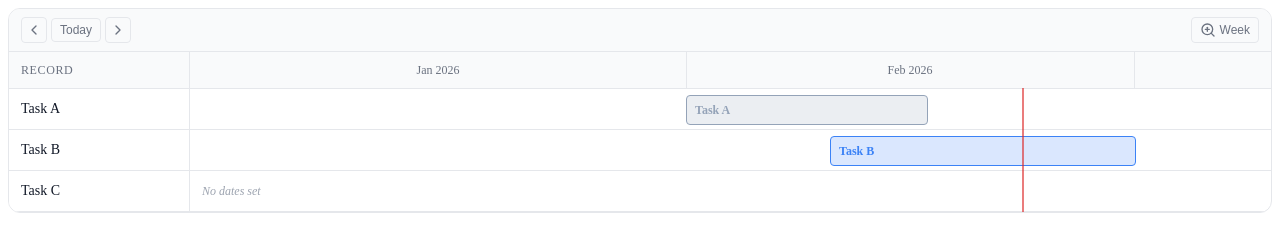
TimelineView › toggles zoom level when zoom button is clicked
// Initially shows "Week" (to switch from Month to Week)
Click the button "Week": click(1225, 30) top-left (1190, 17), bottom-right (1259, 43)
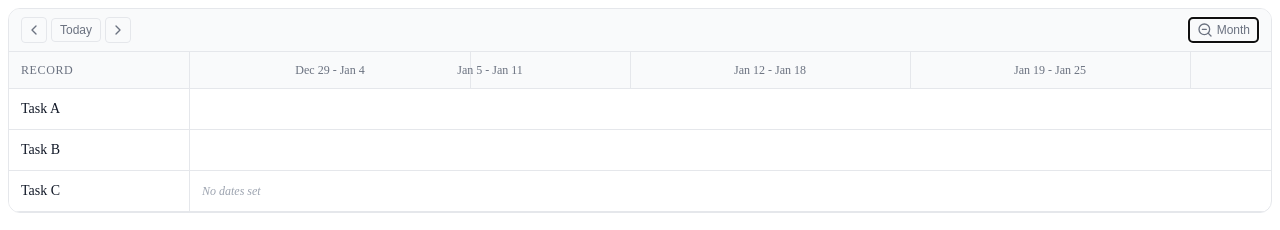
Check: the text "Month" is shown, box top-left (1217, 23), bottom-right (1250, 37)
